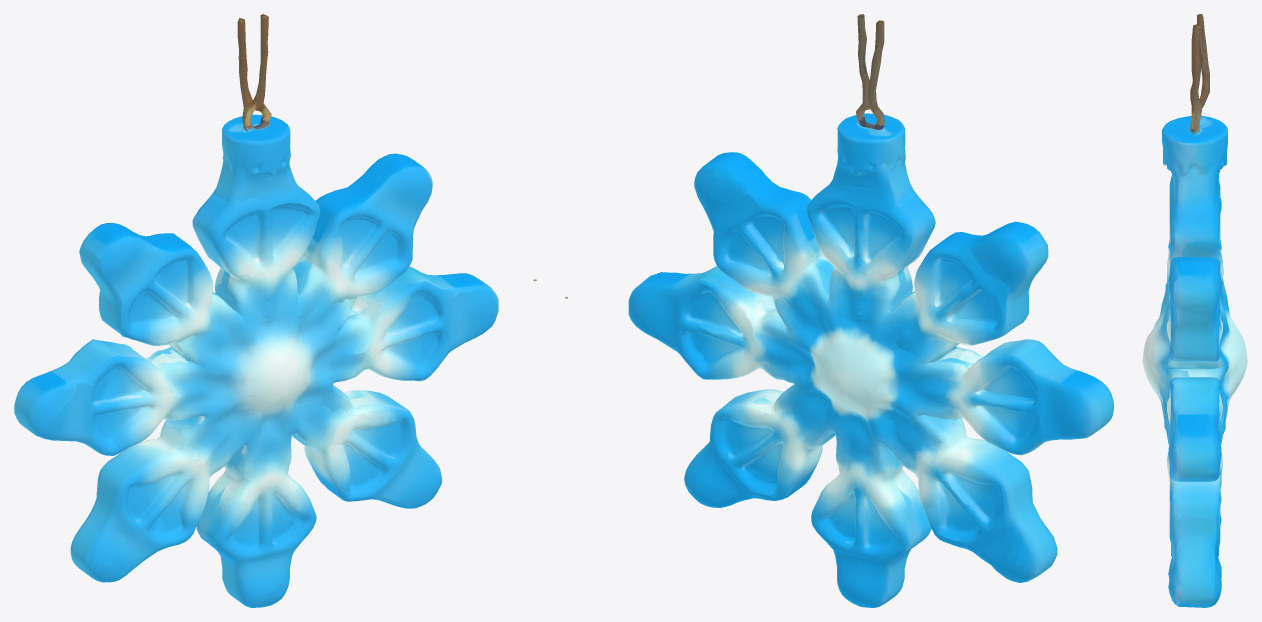
The model's file is s1_gen_snowflake.glb.
3 renders of one model, left to right at view 1: azimuth 30°, elevation 25°; view 2: azimuth 150°, elevation 25°; view 3: azimuth 270°, elevation 25°, orthographic. The views are drawn at different scales.
Size of the model in its own units: 1.8 by 1.91 by 0.317.
1 material, 1 textured.
